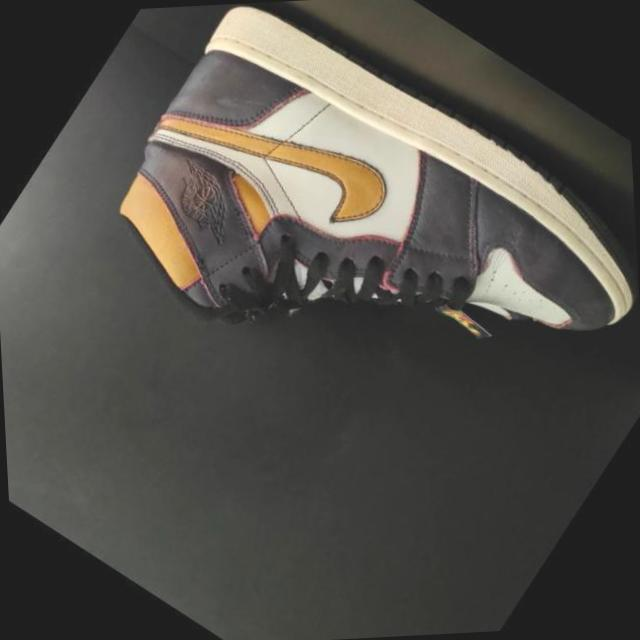nike_fake_jordan: (65, 0, 640, 539)
